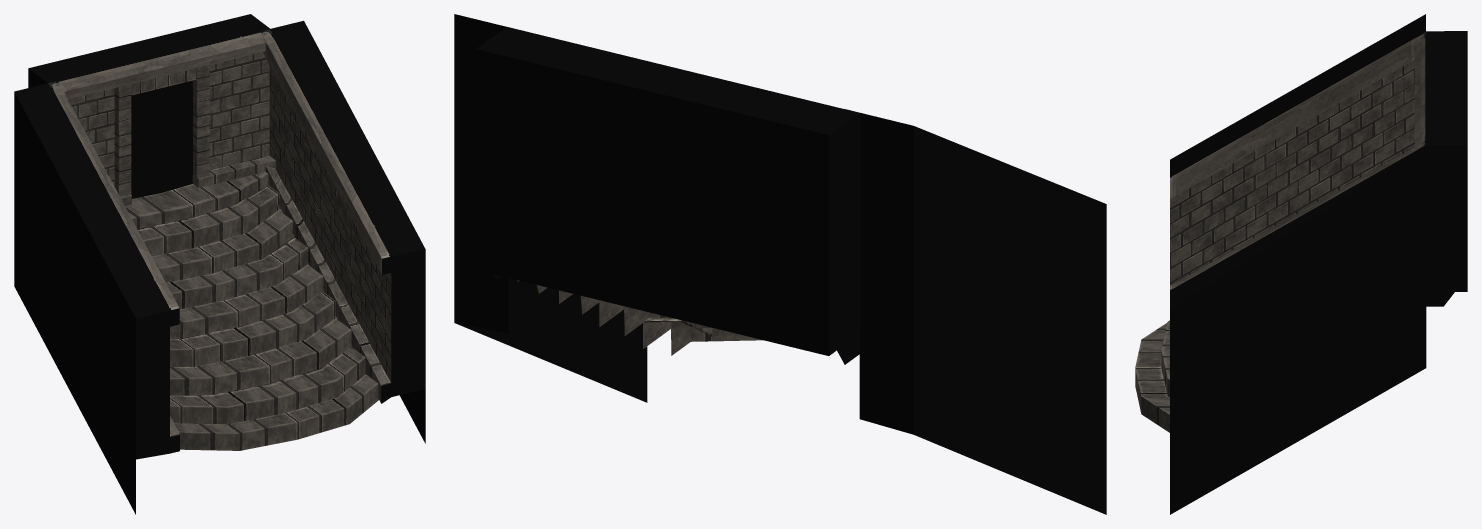
File: ModularStairs02.fbx
3 views of the same model, side by side, from view 1: azimuth 30°, elevation 25°; view 2: azimuth 150°, elevation 25°; view 3: azimuth 270°, elevation 25° (orthographic). The views are drawn at different scales.
Parts seen in each view (by area): view 1: Plane; view 2: Plane; view 3: Plane.
Part boxes in pixels (<box>): Plane: <box>14,14,425,514</box>; Plane: <box>454,14,1106,514</box>; Plane: <box>1135,14,1467,514</box>.
Bounding box in the file's own units: 4.35 × 4.8 × 4.1.
1 material, 1 textured.
